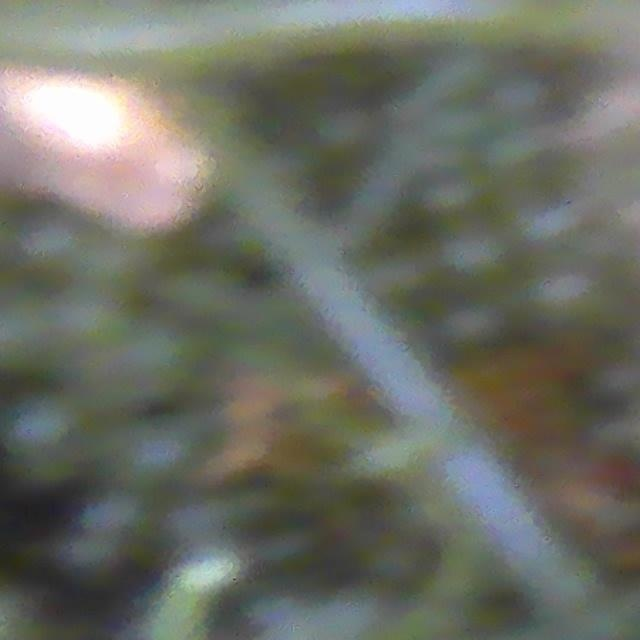SeaGrape: (5, 393, 76, 459)
